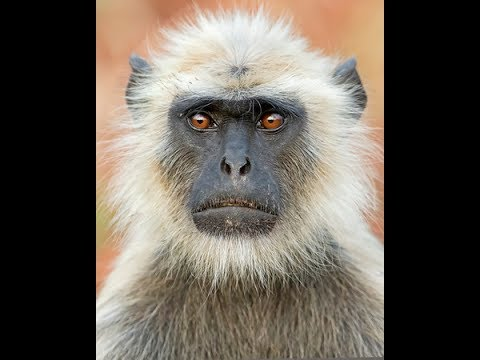langur: (99, 13, 385, 359)
